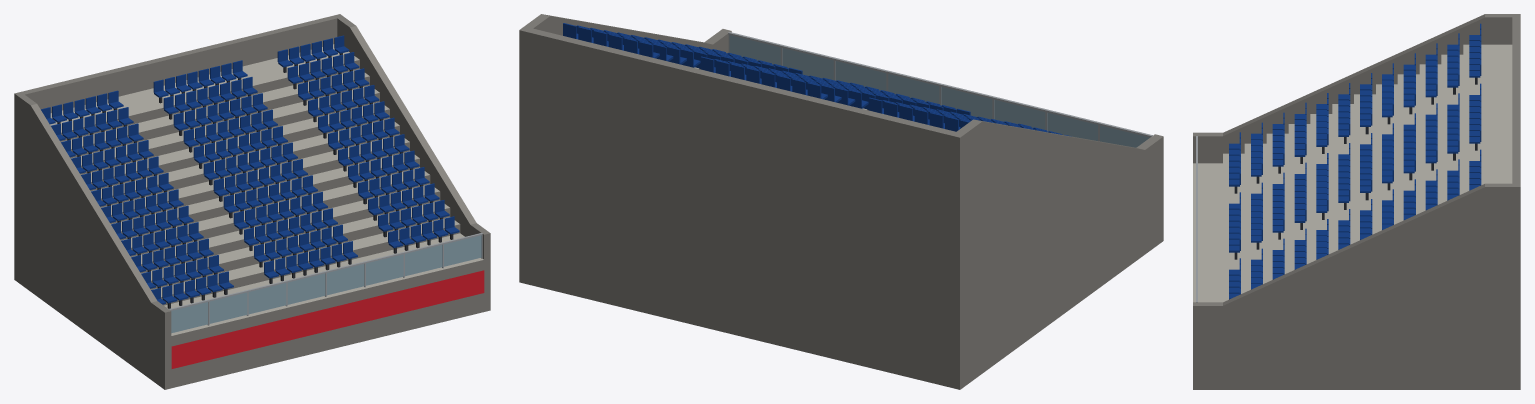
Rendered from stand.glb.
3 renders of one model, left to right at view 1: azimuth 30°, elevation 25°; view 2: azimuth 150°, elevation 25°; view 3: azimuth 270°, elevation 25°, orthographic. The views are drawn at different scales.
Visible parts, largest first — view 1: terrace, seats, front; view 2: terrace, seats, front; view 3: terrace, seats, front.
Boxes of the visible parts, box(x1,y1,x2,y2) form: terrace: box(14, 14, 490, 389); seats: box(41, 35, 459, 308); front: box(169, 233, 484, 368); terrace: box(519, 14, 1163, 389); seats: box(563, 23, 1071, 136); front: box(728, 32, 1153, 147); terrace: box(1193, 14, 1520, 389); seats: box(1229, 23, 1481, 299); front: box(1196, 136, 1197, 302).
Size of the model in its own units: 15 by 8.2 by 12.02.
